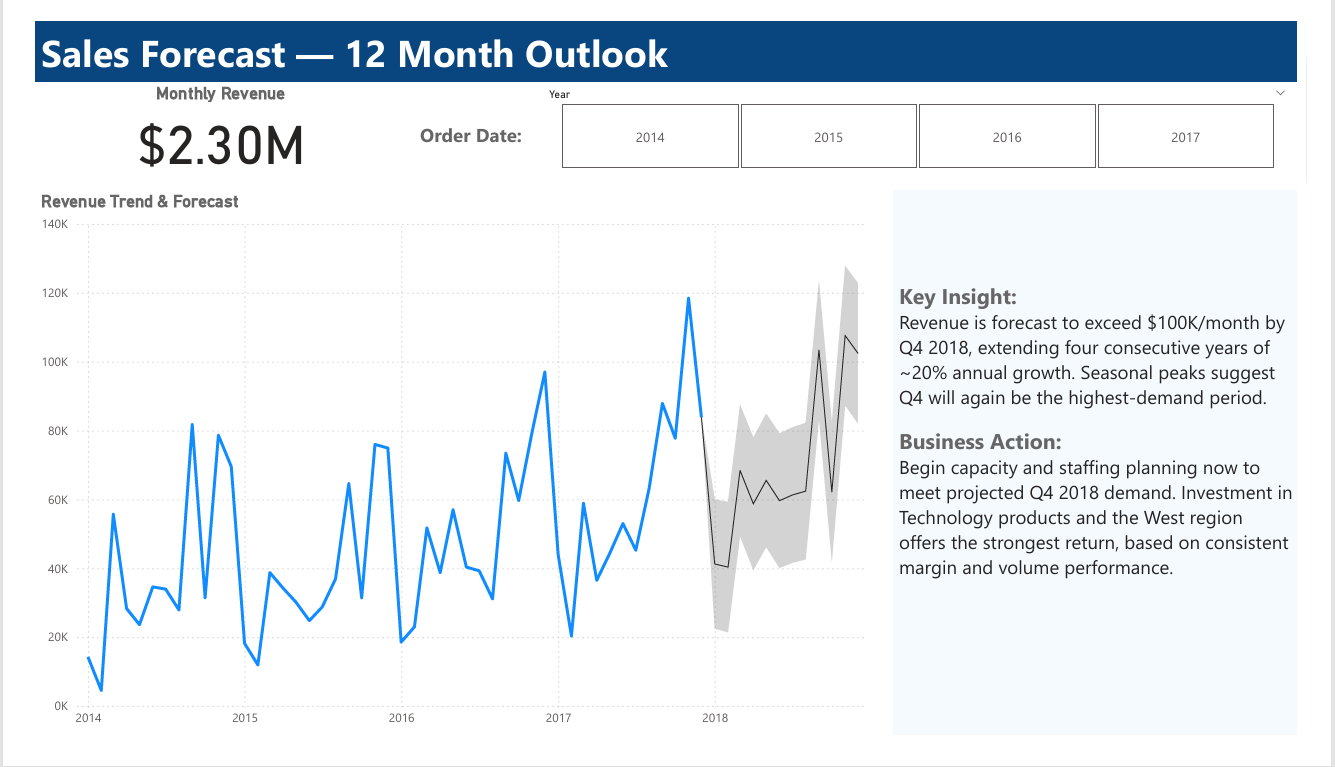

Layout of this report page (visuals, bound fields, positions):
{"tool":"powerbi","page":{"name":"Sales Forecast","canvas":[1280,720],"ordinal":2},"visuals":[{"type":"textbox","box":[9.2,0,1261.7,61],"z":0},{"type":"lineChart","title":"Revenue Trend & Forecast","fields":{"Y":["Sum(monthly_sales.monthly_revenue)"],"Category":["monthly_sales.order_date"]},"box":[9.1,168.8,839.6,545.5],"z":2000},{"type":"slicer","fields":{"Values":["monthly_sales.order_date.Variation.Date Hierarchy.Year"]},"box":[509.1,61,761.7,92.2],"z":3000},{"type":"textbox","box":[388.3,61,120.8,92.2],"z":4000},{"type":"card","title":"Monthly Revenue","fields":{"Values":["Sum(monthly_sales.monthly_revenue)"]},"box":[9.1,61,369.5,92.2],"z":5000},{"type":"textbox","box":[866.9,168.8,403.9,545.5],"z":6000}]}

Visuals, with their boxes in screenshot pixels (x1, y1, x2, y2), scaled from the page's 1280x720 canvas onto the 1335x767 screenshot:
textbox: box(10, 0, 1326, 65)
"Revenue Trend & Forecast" lineChart: box(9, 180, 885, 761)
slicer - monthly_sales.order_date.Variation.Date Hierarchy.Year: box(531, 65, 1325, 163)
textbox: box(405, 65, 531, 163)
"Monthly Revenue" card: box(9, 65, 395, 163)
textbox: box(904, 180, 1325, 761)
